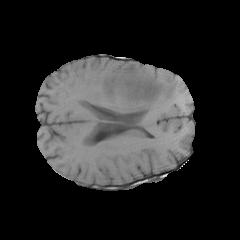glioma: (100, 62, 179, 124)
